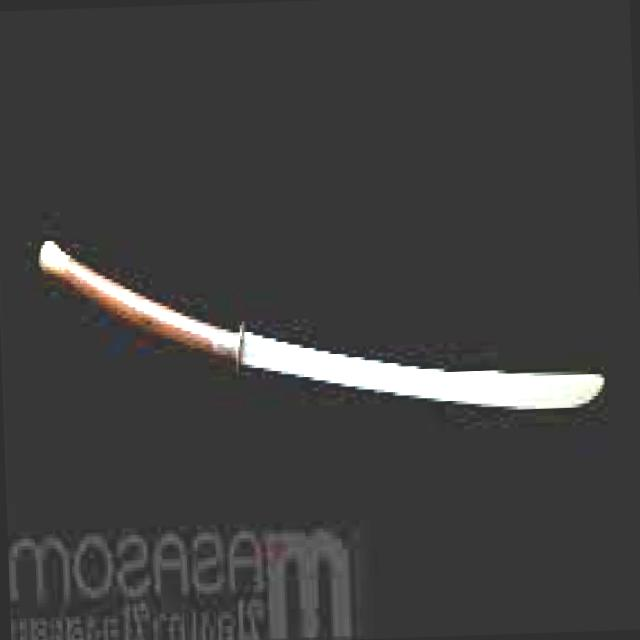long sword: (36, 220, 606, 432)
